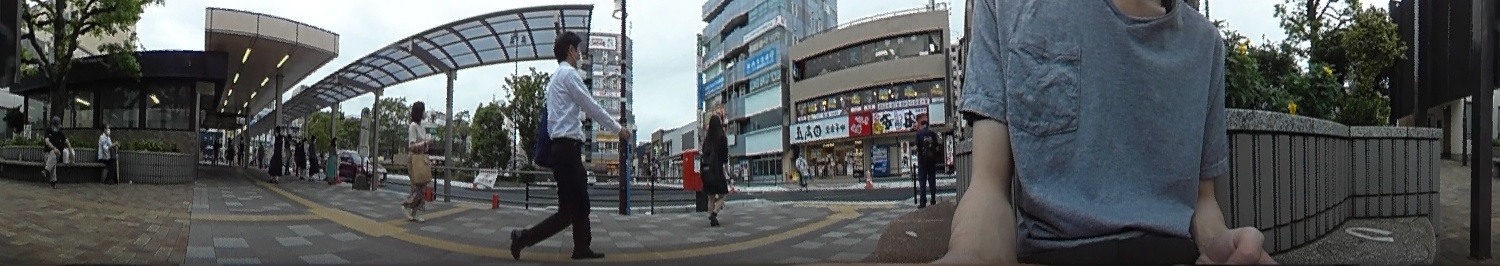difficult_person: (324, 137, 341, 184), (267, 127, 284, 172), (293, 135, 307, 176), (795, 153, 811, 185), (282, 132, 293, 177), (307, 133, 318, 177), (225, 135, 234, 168)
person: (524, 30, 620, 262), (404, 99, 433, 222), (701, 112, 731, 228), (39, 114, 75, 185), (910, 118, 937, 211), (97, 122, 121, 182)
